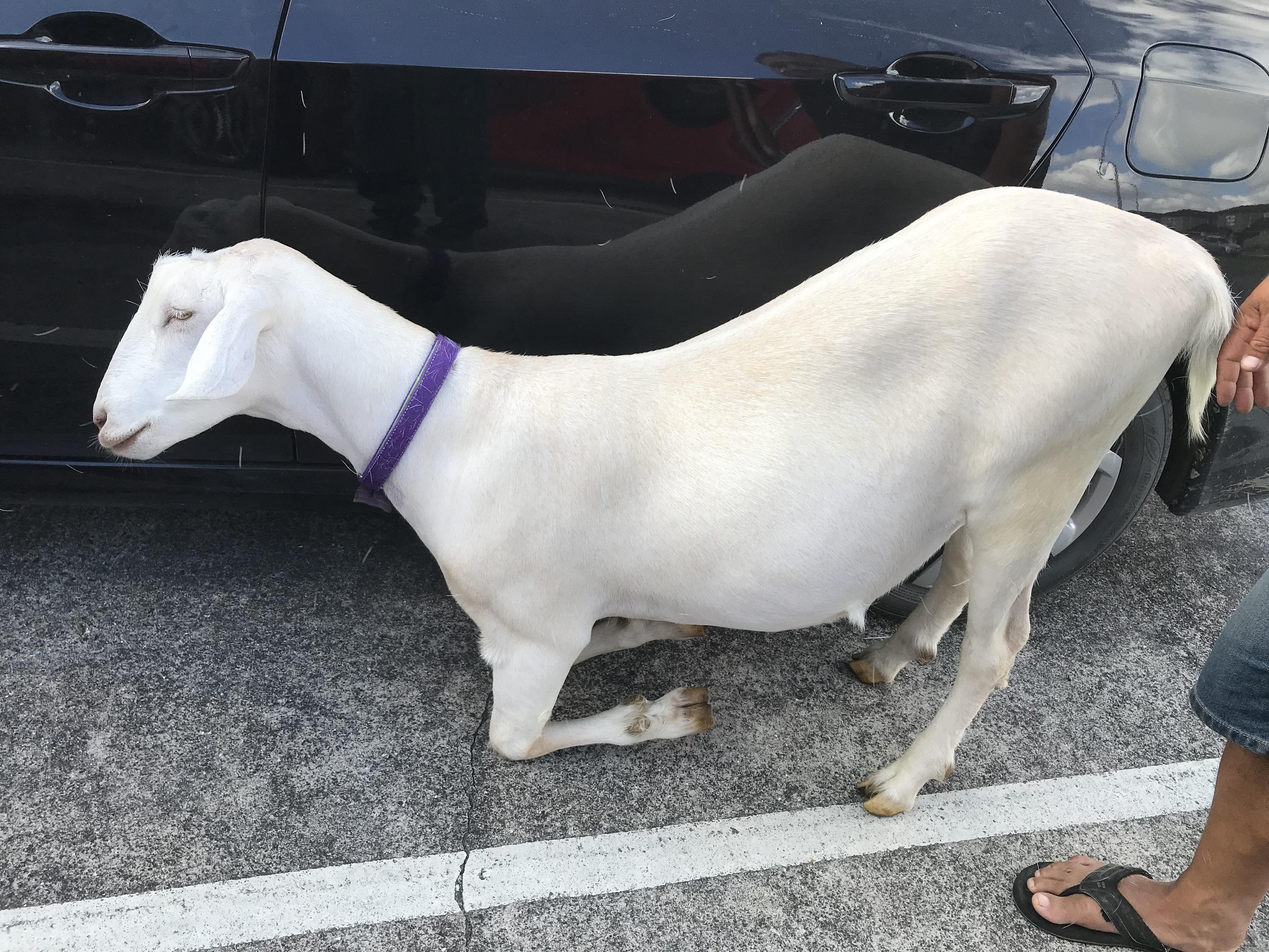fracture: (426, 559, 713, 812)
